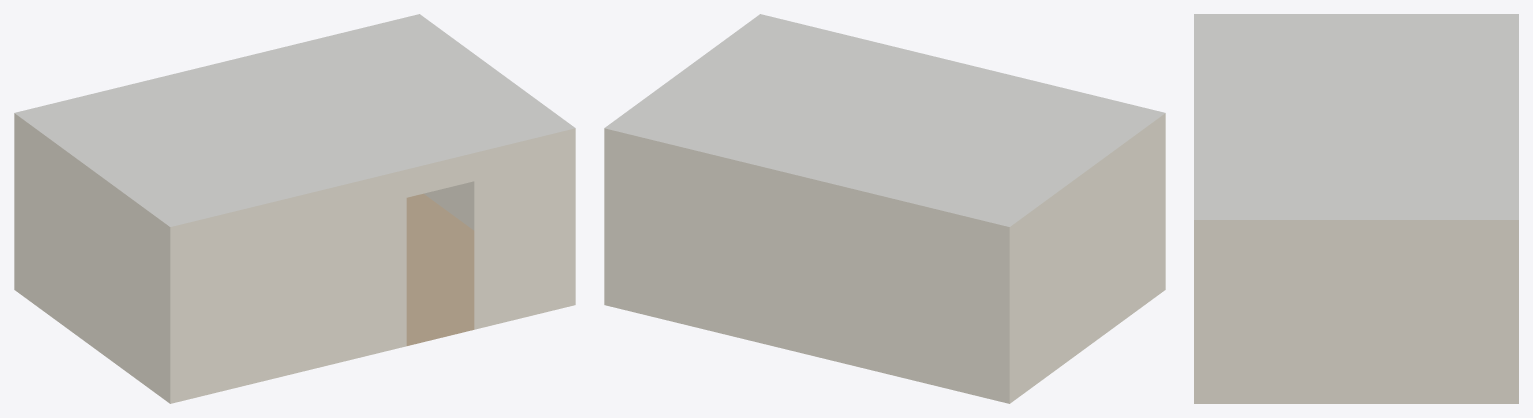
Rendered from classified-room-meshopt.glb.
3 views of the same model, side by side, from view 1: azimuth 30°, elevation 25°; view 2: azimuth 150°, elevation 25°; view 3: azimuth 270°, elevation 25° (orthographic). The views are drawn at different scales.
Bounding box in the file's own units: 6 × 2.5 × 4.
